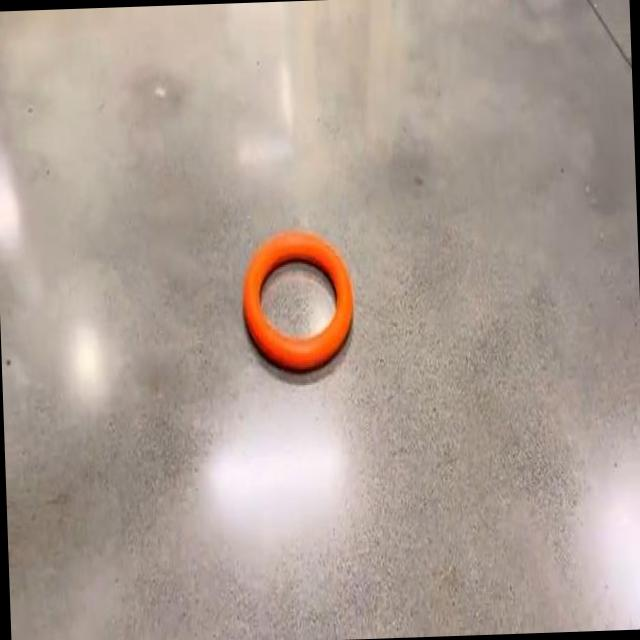note: (243, 231, 353, 370)
